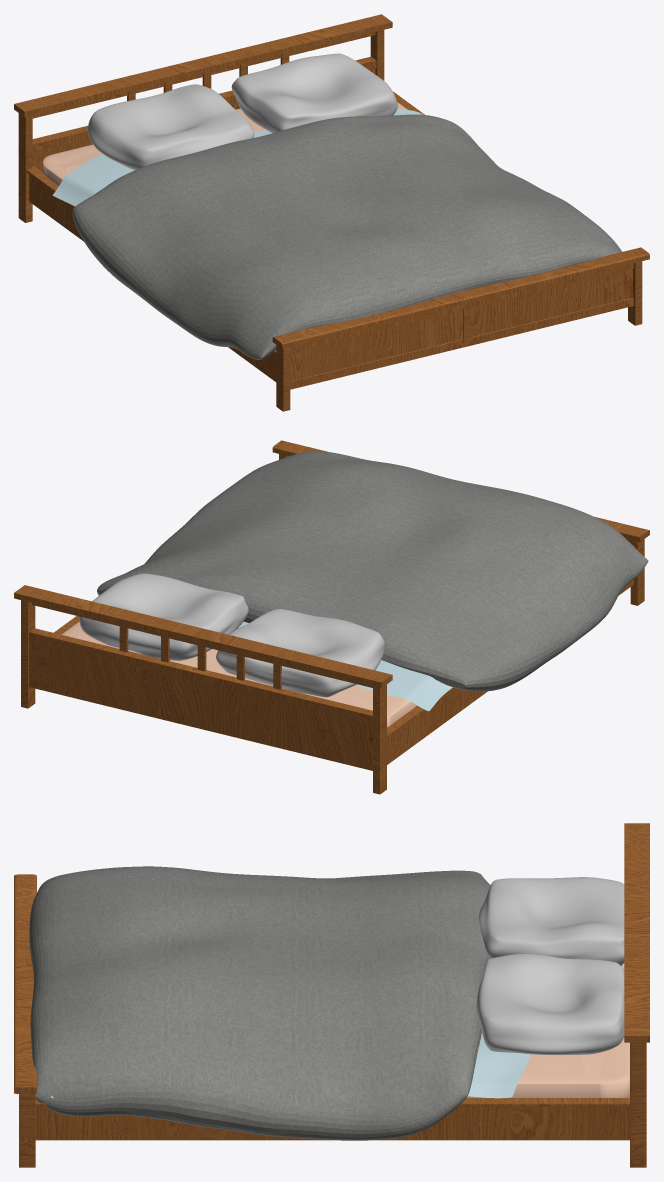
The model's file is double_bed.fbx.
The picture shows the model from 3 angles, top to bottom: view 1: azimuth 30°, elevation 25°; view 2: azimuth 150°, elevation 25°; view 3: azimuth 270°, elevation 25°; orthographic projection. The views are drawn at different scales.
Parts seen in each view (by area): view 1: coversheet_GEO, doublebed_slats.004, pillow_GEO, pillow_GEO.001, sheet_GEO, doublebed_slats; view 2: coversheet_GEO, doublebed_slats.004, pillow_GEO, pillow_GEO.001, doublebed_slats, sheet_GEO; view 3: coversheet_GEO, doublebed_slats.004, pillow_GEO.001, pillow_GEO, doublebed_slats, sheet_GEO.
Part boxes in pixels (left/top/right/bottom): coversheet_GEO: left=72, top=114, right=622, bottom=359; doublebed_slats.004: left=14, top=14, right=649, bottom=411; pillow_GEO: left=87, top=84, right=254, bottom=170; pillow_GEO.001: left=231, top=53, right=397, bottom=133; sheet_GEO: left=52, top=108, right=423, bottom=206; doublebed_slats: left=43, top=102, right=407, bottom=185; coversheet_GEO: left=97, top=451, right=648, bottom=691; doublebed_slats.004: left=14, top=440, right=649, bottom=794; pillow_GEO: left=216, top=609, right=384, bottom=697; pillow_GEO.001: left=79, top=573, right=248, bottom=660; doublebed_slats: left=61, top=621, right=416, bottom=726; sheet_GEO: left=238, top=621, right=452, bottom=711; coversheet_GEO: left=29, top=866, right=490, bottom=1140; doublebed_slats.004: left=14, top=823, right=649, bottom=1167; pillow_GEO.001: left=476, top=953, right=624, bottom=1054; pillow_GEO: left=479, top=877, right=624, bottom=965; doublebed_slats: left=466, top=963, right=629, bottom=1097; sheet_GEO: left=51, top=1033, right=530, bottom=1098.
Size of the model in its own units: 165 by 45.03 by 193.
Materials: 5 (5 with a texture image).
